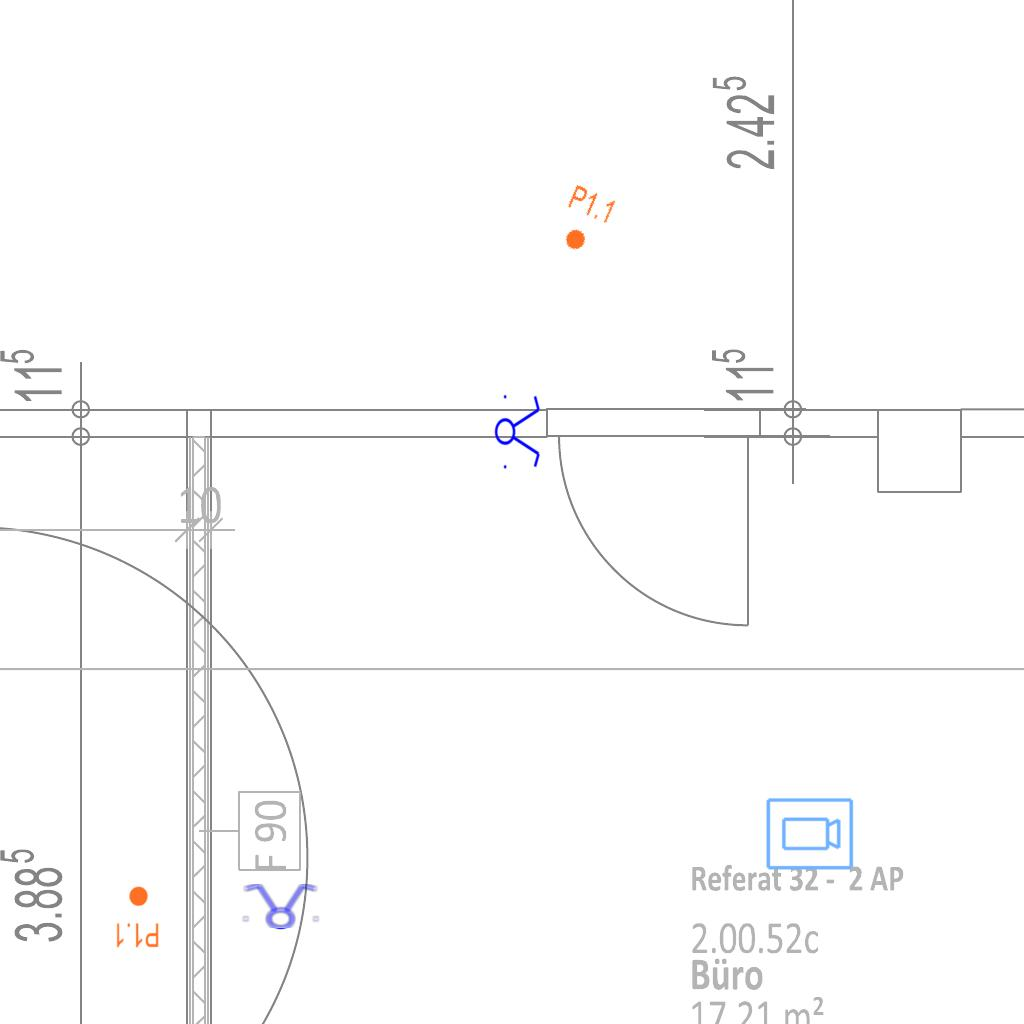Downlight_LED_Einbauleuchten_Flur: (551, 182, 619, 260), (114, 885, 160, 949)
KFO_Kamera_mit_Festobjektiv: (764, 796, 855, 873)
Serienschalter: (494, 389, 542, 473), (238, 882, 322, 930)
